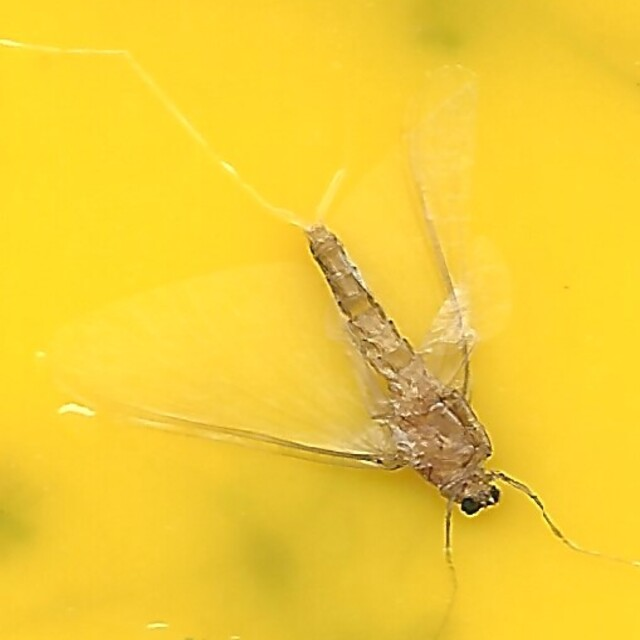Ephemeroptera: (126, 119, 514, 521)
